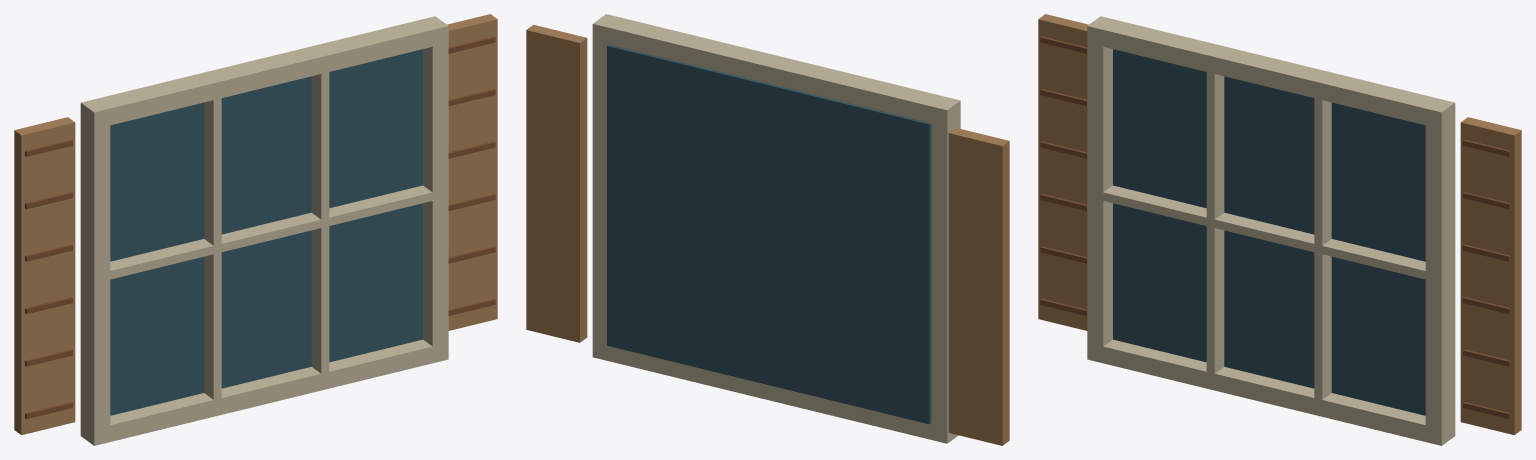
The model's file is window_02.glb.
3 views of the same model, side by side, from view 1: azimuth 30°, elevation 25°; view 2: azimuth 150°, elevation 25°; view 3: azimuth 330°, elevation 25° (orthographic).
Visible parts, largest first — view 1: window_02; view 2: window_02; view 3: window_02.
Boxes of the visible parts, x1,y1,x2,y2 form: window_02: (14,14,497,445); window_02: (526,14,1009,445); window_02: (1038,14,1521,445).
Bounding box in the file's own units: 2.66 × 1.78 × 0.185.
